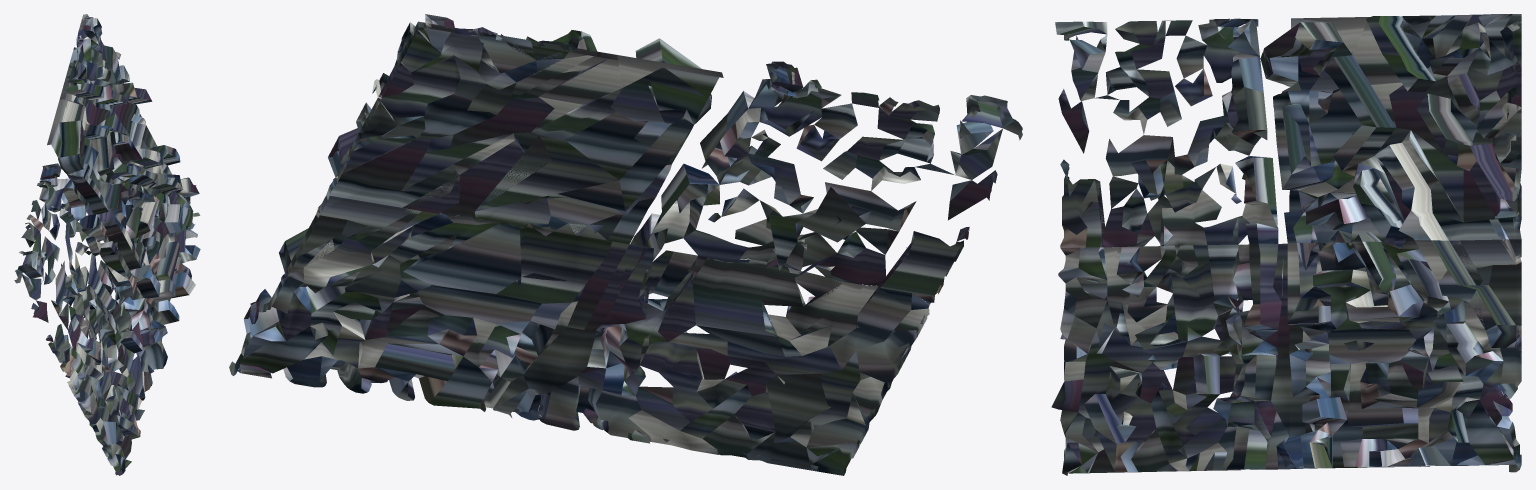
3 renders of one model, left to right at view 1: azimuth 30°, elevation 25°; view 2: azimuth 150°, elevation 25°; view 3: azimuth 270°, elevation 25°, orthographic. The views are drawn at different scales.
Visible parts, largest first — view 1: node_3043627270436141_mesh0, node_3043627270436141_mesh1; view 2: node_3043627270436141_mesh0, node_3043627270436141_mesh1; view 3: node_3043627270436141_mesh0, node_3043627270436141_mesh1.
Boxes of the visible parts, bbox=[...] form: node_3043627270436141_mesh0: bbox=[15, 16, 200, 475]; node_3043627270436141_mesh1: bbox=[14, 14, 200, 473]; node_3043627270436141_mesh0: bbox=[229, 18, 1016, 475]; node_3043627270436141_mesh1: bbox=[241, 14, 1022, 471]; node_3043627270436141_mesh0: bbox=[1055, 14, 1521, 475]; node_3043627270436141_mesh1: bbox=[1051, 14, 1521, 473].
Bounding box in the file's own units: 585 × 584 × 455.
Materials: 2 (2 with a texture image).
